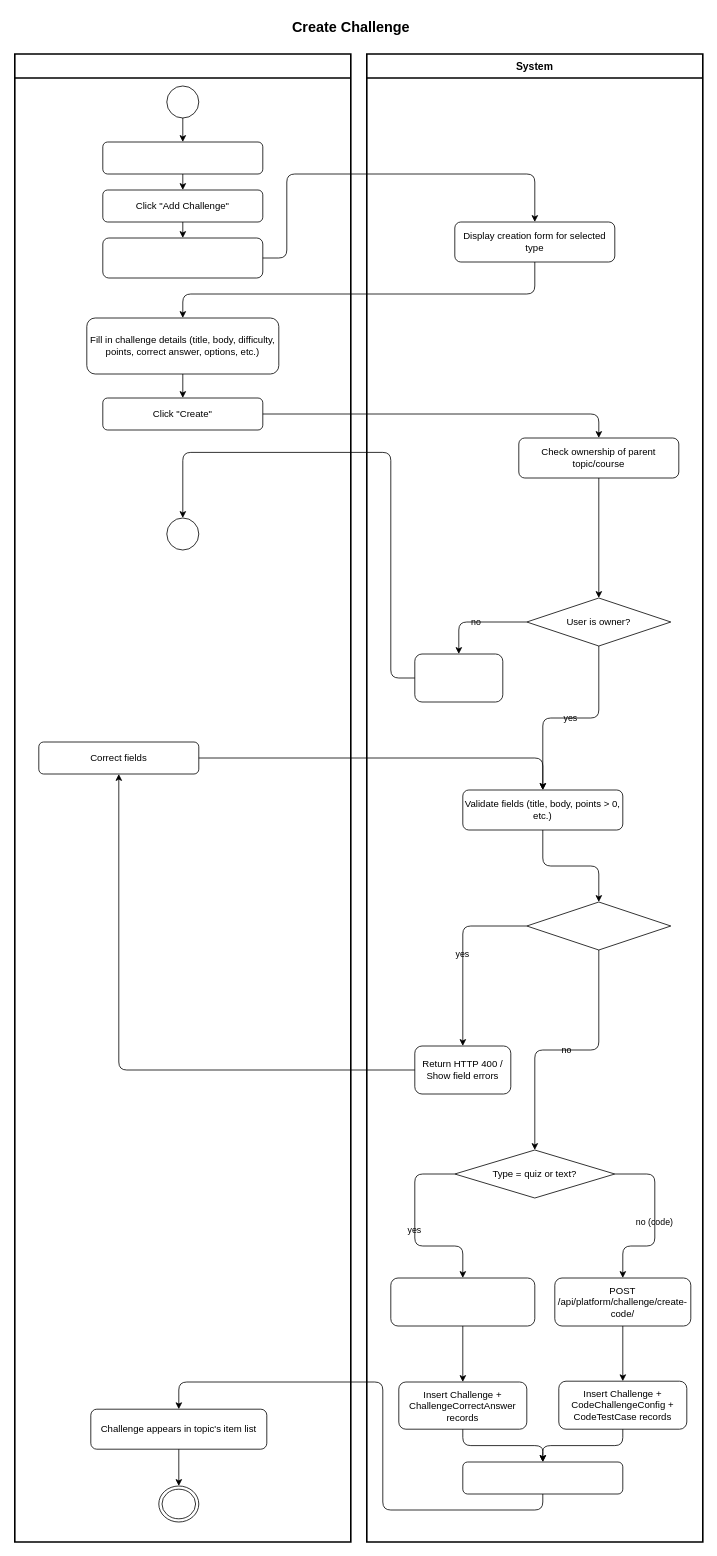
The diagram is 717 pixels wide and 1556 high, and some of its shapes have lost their labels. The shapes that lost their labels are listed below. From the top down, each one's box as (x1, y1, x2, y2) in pixels, then its label:
(102, 141, 263, 174): Navigate to topic inside course
(102, 237, 263, 278): Select challenge type (quiz / text / code)
(414, 653, 503, 702): Return HTTP 403
(14, 53, 351, 1542): Teacher
(526, 901, 671, 950): Validation errors?
(390, 1277, 535, 1326): POST /api/platform/challenge/create/
(462, 1461, 623, 1494): Return HTTP 201
